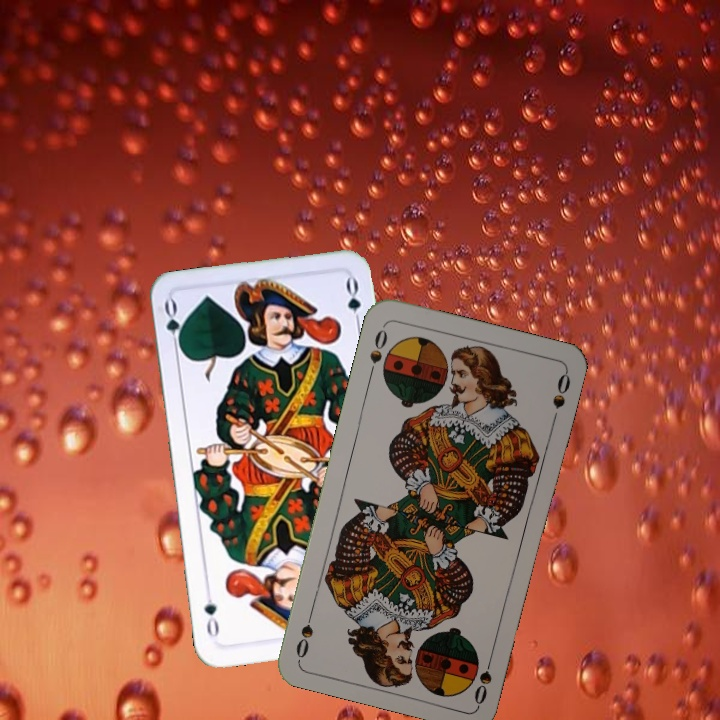GO: (160, 296, 186, 355)
SO: (470, 648, 496, 707), (365, 325, 390, 380)
